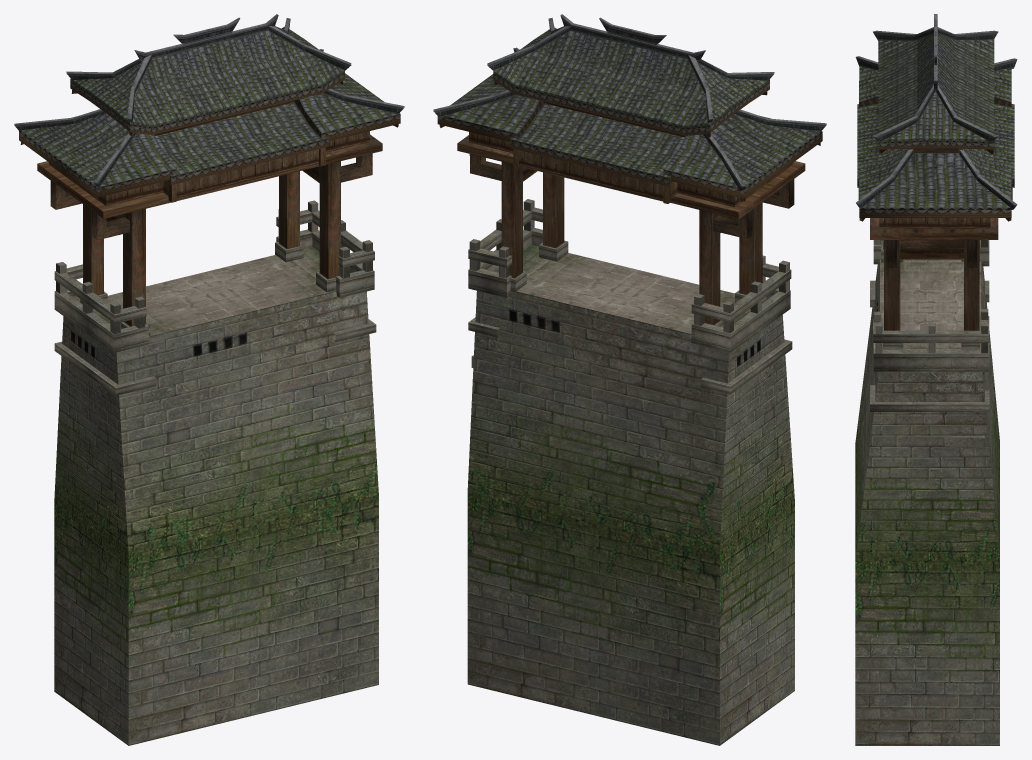
The model's file is qiao_dw_40_02.FBX.
3 views of the same model, side by side, from view 1: azimuth 30°, elevation 25°; view 2: azimuth 150°, elevation 25°; view 3: azimuth 270°, elevation 25° (orthographic). The views are drawn at different scales.
Visible parts, largest first — view 1: qiao_dw_40_02; view 2: qiao_dw_40_02; view 3: qiao_dw_40_02.
Part boxes in pixels (x1,y1,x2,y2): qiao_dw_40_02: (14, 14, 404, 745); qiao_dw_40_02: (433, 14, 826, 745); qiao_dw_40_02: (855, 14, 1017, 745).
Size of what is drawn, in the model's own units: 1487 by 3018 by 690.
